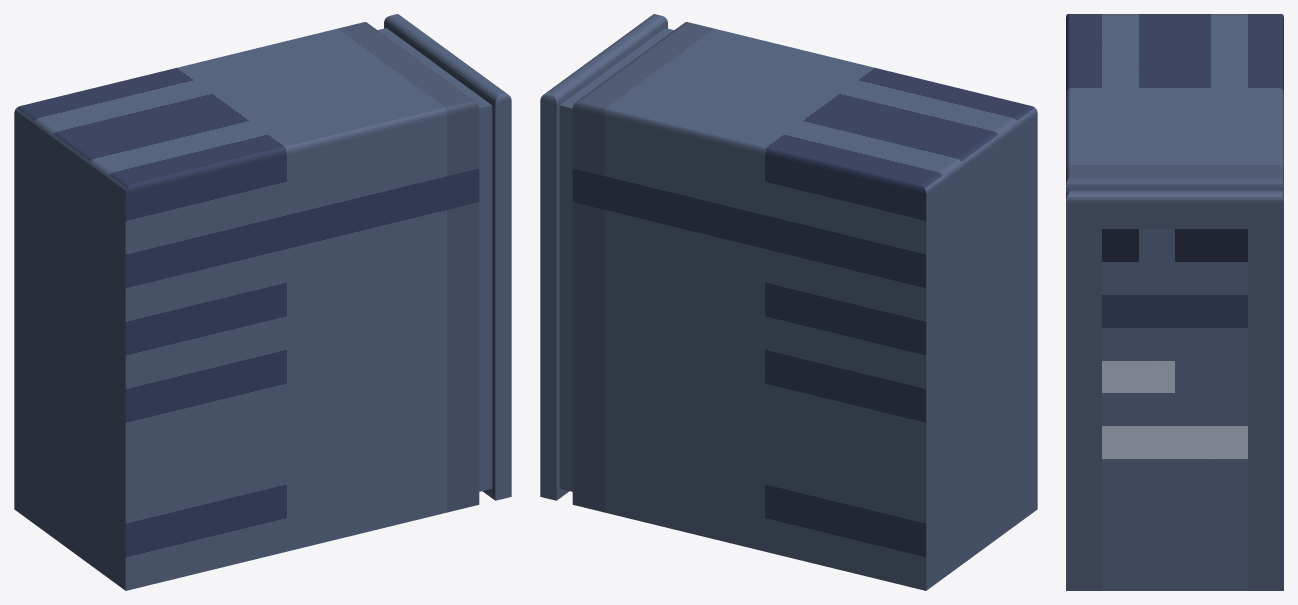
Rendered from computer.glb.
3 views of the same model, side by side, from view 1: azimuth 30°, elevation 25°; view 2: azimuth 150°, elevation 25°; view 3: azimuth 270°, elevation 25° (orthographic). The views are drawn at different scales.
Visible parts, largest first — view 1: Cube; view 2: Cube; view 3: Cube.
Part boxes in pixels (bbox=[...]): Cube: bbox=[14, 14, 511, 590]; Cube: bbox=[540, 14, 1037, 590]; Cube: bbox=[1066, 14, 1283, 590].
Bounding box in the file's own units: 0.3048 × 0.3048 × 0.1524.
4 materials, 3 textured.
